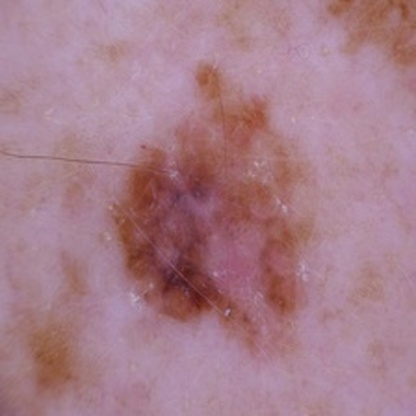malignant: (122, 104, 306, 323)
